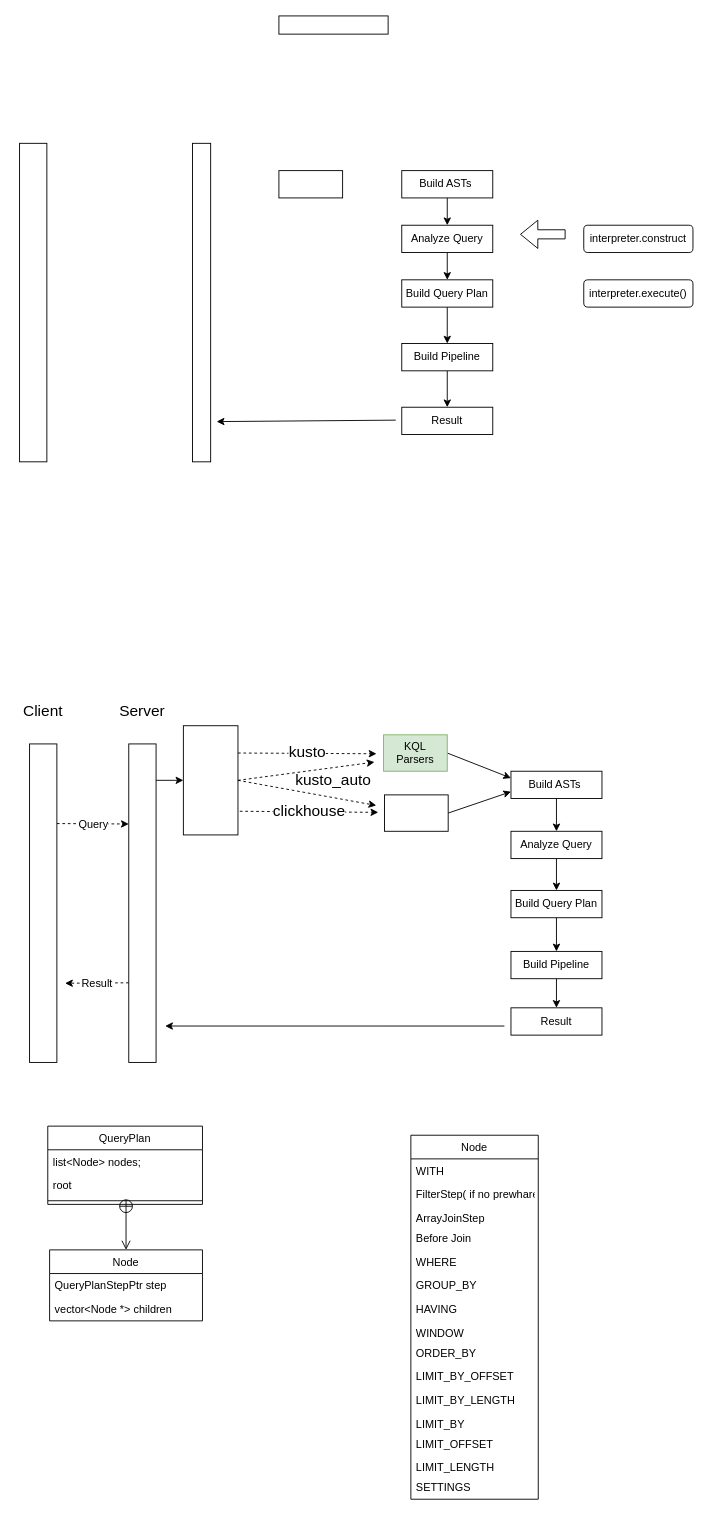
Image size: 709x1518. Some labels were removed from this diagram. Each missing label, with the centre of its shape:
"ClickHouse Parsers" belongs at point (416, 812).
"dialect" belongs at point (210, 780).
"KQL" belongs at point (333, 24).
"Parsers" belongs at point (310, 184).
